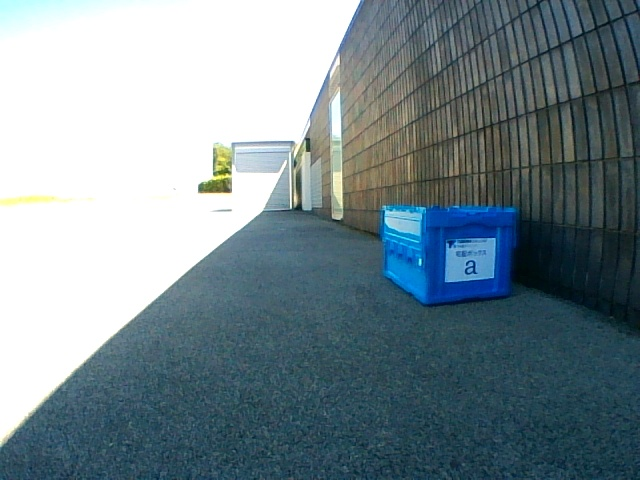blue_box: (381, 206, 517, 304)
tag_a: (449, 242, 491, 278)
